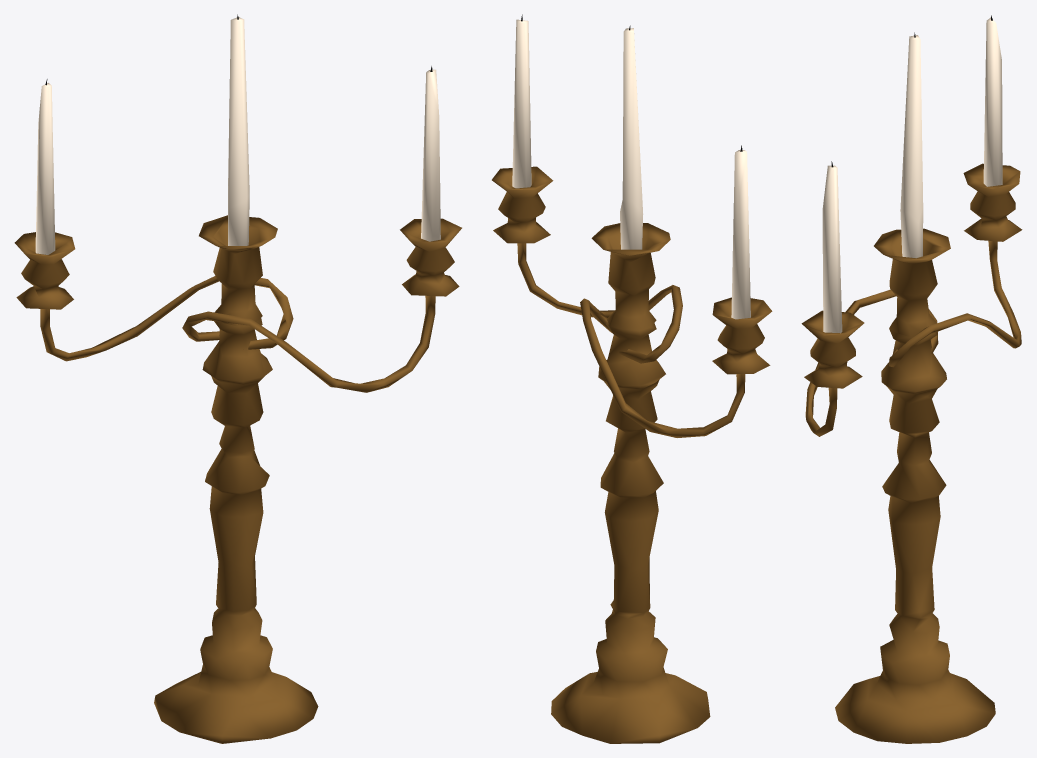
The model's file is AntiqueCandelabra.glb.
3 renders of one model, left to right at view 1: azimuth 30°, elevation 25°; view 2: azimuth 150°, elevation 25°; view 3: azimuth 270°, elevation 25°, orthographic.
Parts seen in each view (by area): view 1: AntiqueCandelabra; view 2: AntiqueCandelabra; view 3: AntiqueCandelabra.
Part boxes in pixels (x1,y1,x2,y2): AntiqueCandelabra: (14,14,461,743); AntiqueCandelabra: (492,14,772,743); AntiqueCandelabra: (801,15,1022,743).
Size of what is drawn, in the model's own units: 0.3592 by 0.6687 by 0.1966.
Materials: 2 (2 with a texture image).
